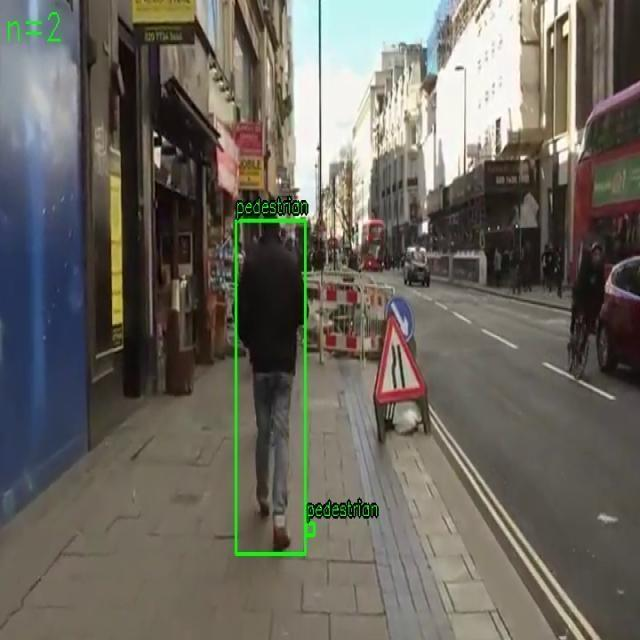person: (236, 220, 306, 555), (306, 522, 314, 536)
